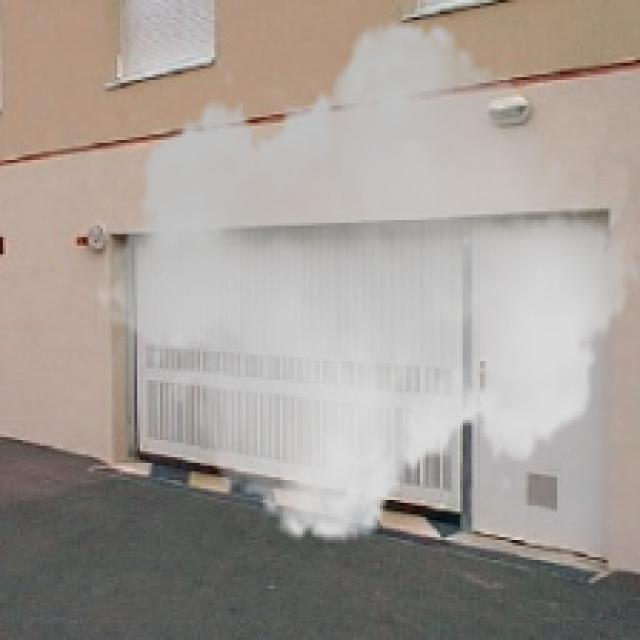Smoke: (94, 0, 637, 566)
